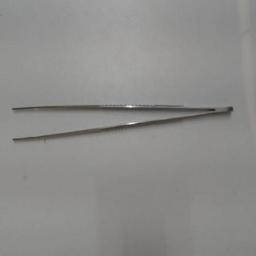DeBakey Dissector: (0, 96, 240, 148)
